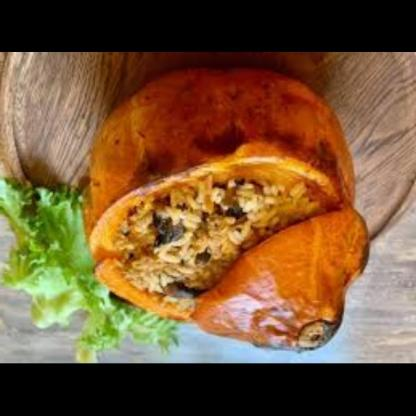pumpkin: (85, 61, 365, 352)
